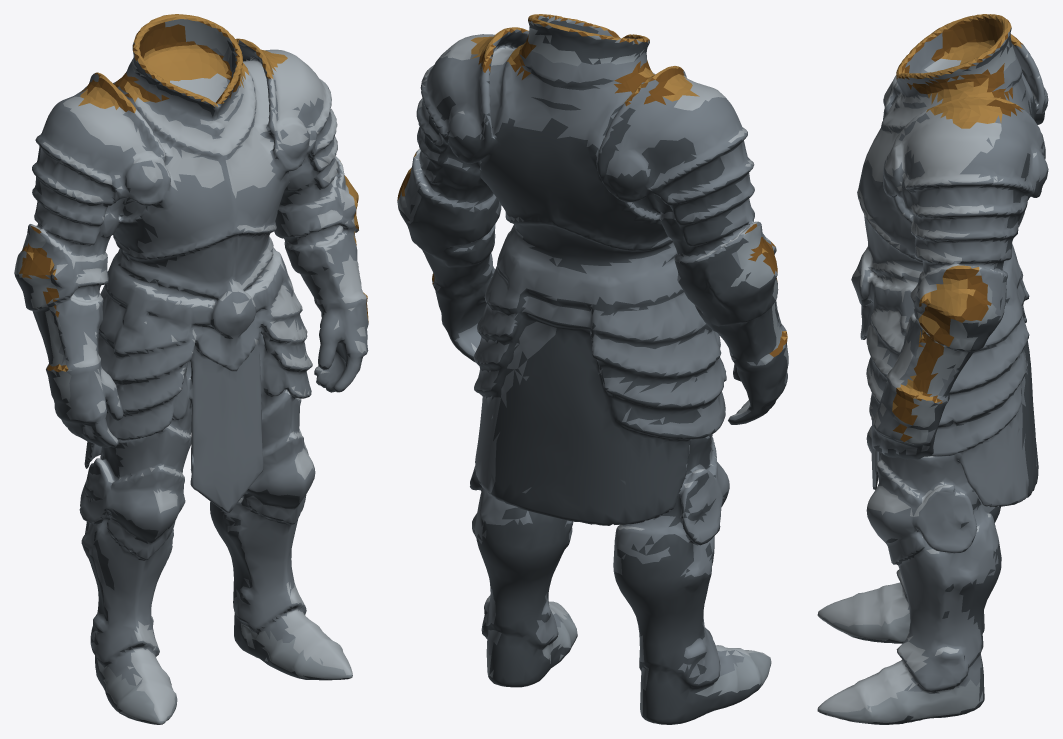
The model's file is armadura_completa.glb.
The picture shows the model from 3 angles, left to right: view 1: azimuth 30°, elevation 25°; view 2: azimuth 150°, elevation 25°; view 3: azimuth 270°, elevation 25°; orthographic projection. The views are drawn at different scales.
Parts seen in each view (by area): view 1: tmpelz4iow8.ply; view 2: tmpelz4iow8.ply; view 3: tmpelz4iow8.ply.
Boxes of the visible parts, <box> form: tmpelz4iow8.ply: <box>14,14,368,724</box>; tmpelz4iow8.ply: <box>397,14,788,724</box>; tmpelz4iow8.ply: <box>817,14,1048,724</box>.
Size of the model in its own units: 1.11 by 1.96 by 0.6344.
